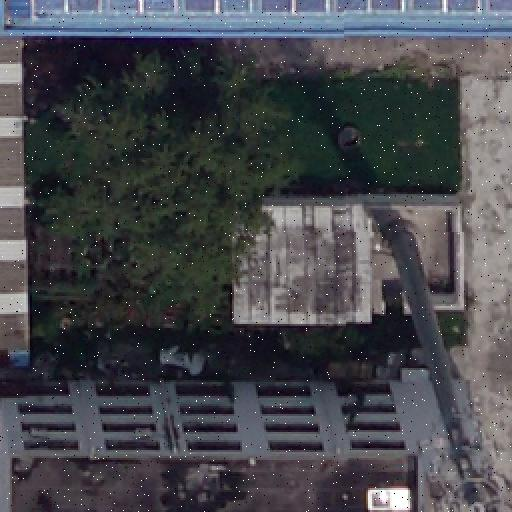solar-panel: (334, 1, 402, 15), (182, 1, 250, 15), (32, 1, 100, 15), (259, 1, 325, 15), (107, 1, 173, 15), (410, 0, 478, 12), (483, 0, 509, 12)
